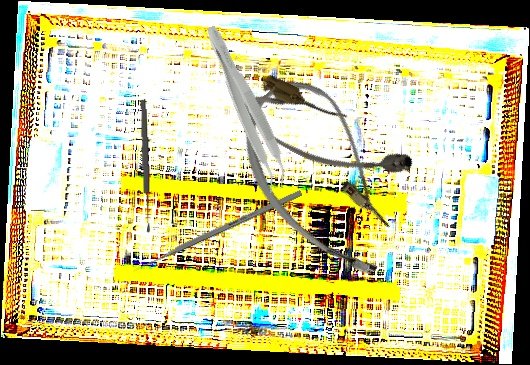Cannula: (214, 62, 436, 295), (235, 69, 421, 204)
Pusher: (131, 189, 303, 274)
Surgical Spoon: (139, 98, 152, 234)
Tissue Forceps: (194, 21, 296, 195)
